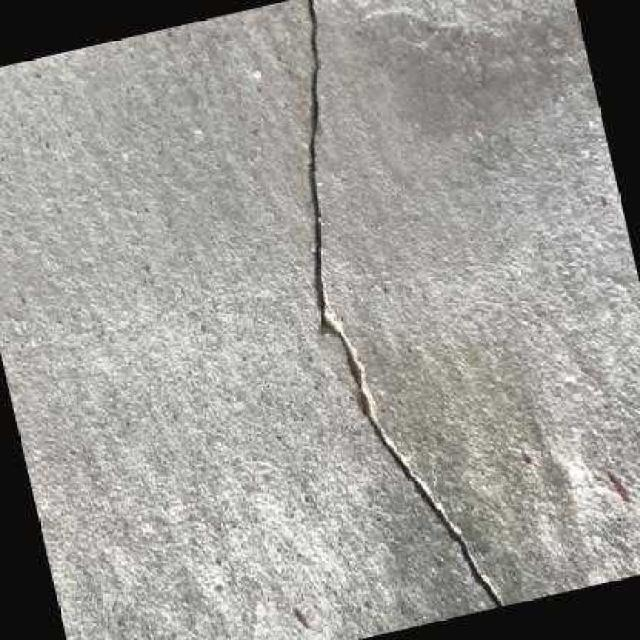D00: (303, 0, 506, 608)
